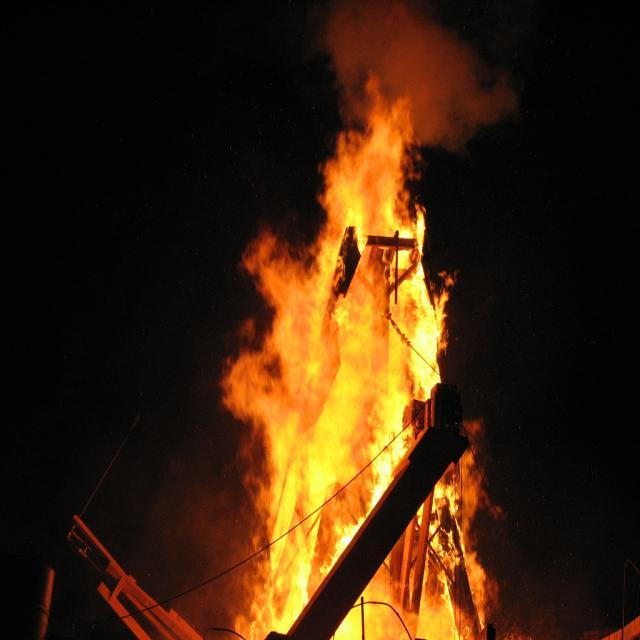Fire: (250, 243, 432, 447), (246, 457, 374, 575), (321, 127, 414, 230)
